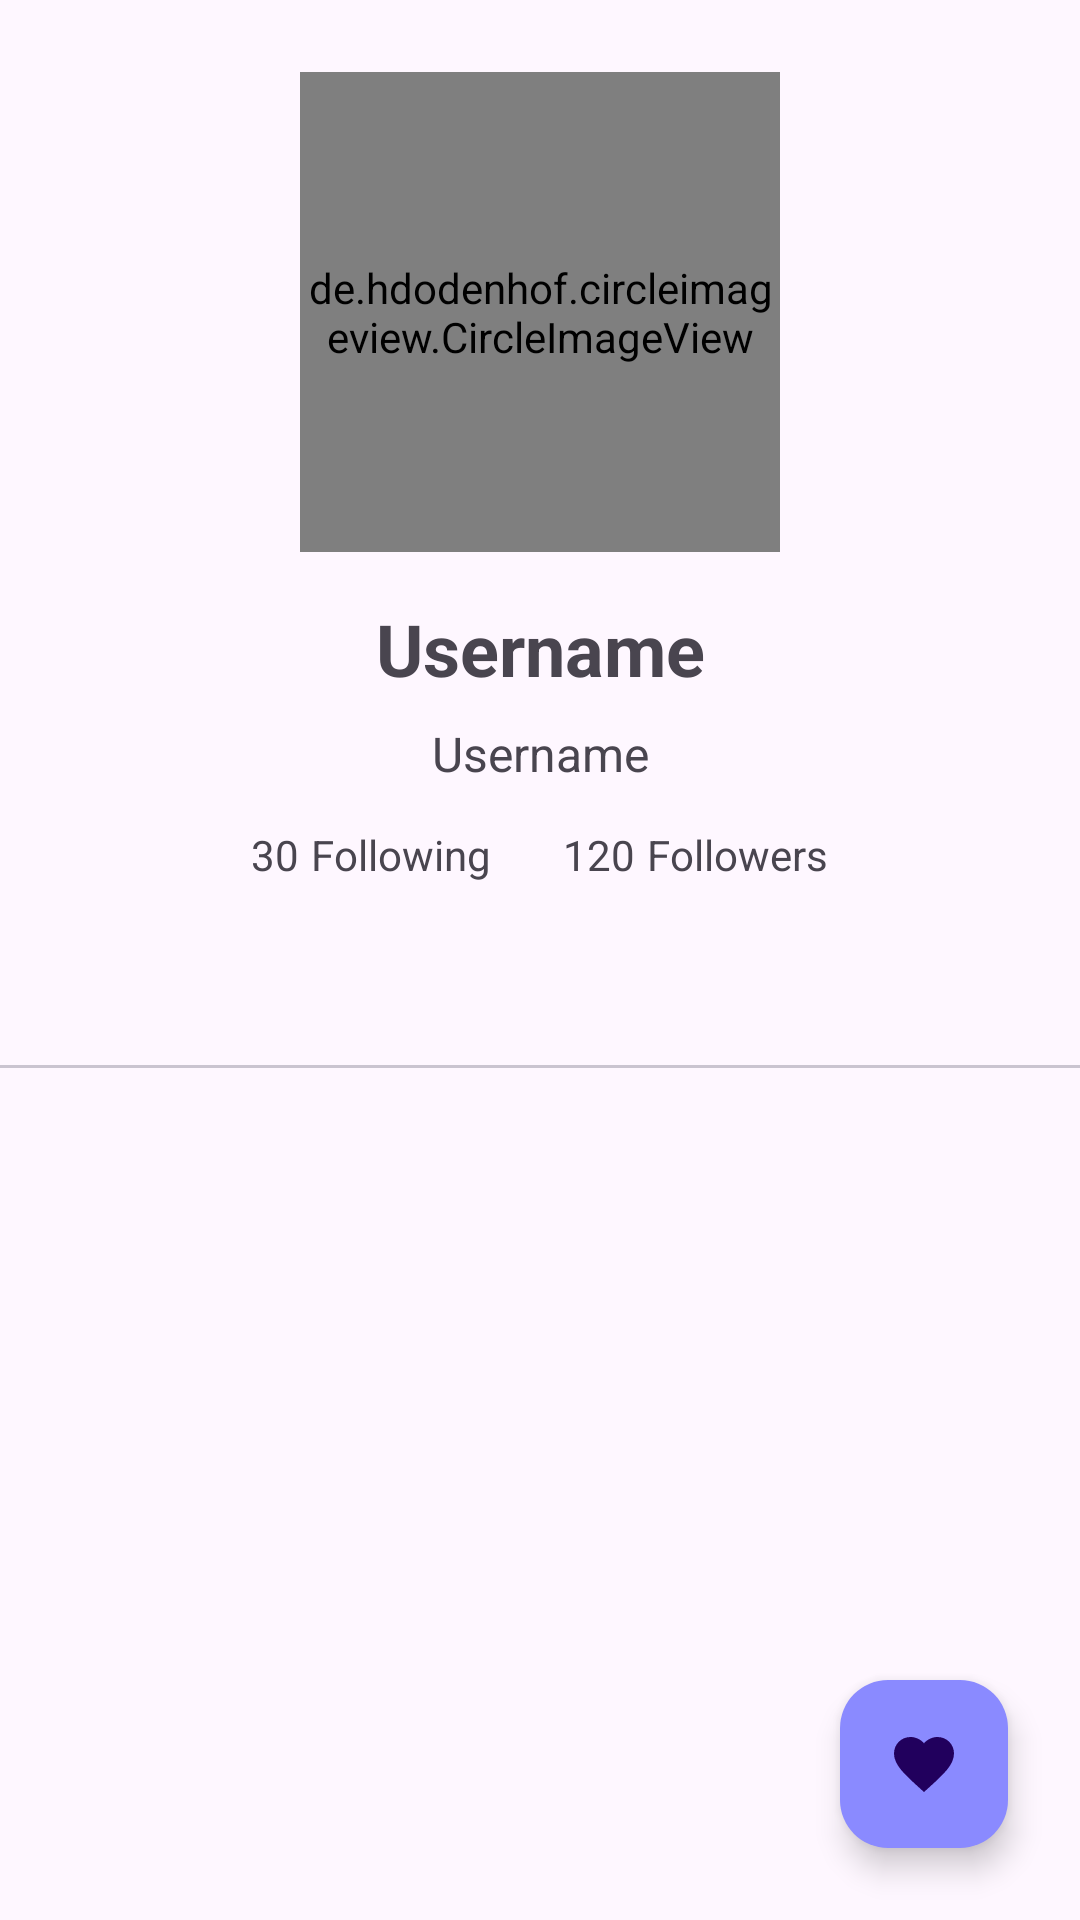

Icon bounding boxes for this 1080×1920 phone screenshot, format (x1, y1, x2, y2):
favorite: (840, 1680, 1008, 1848)
